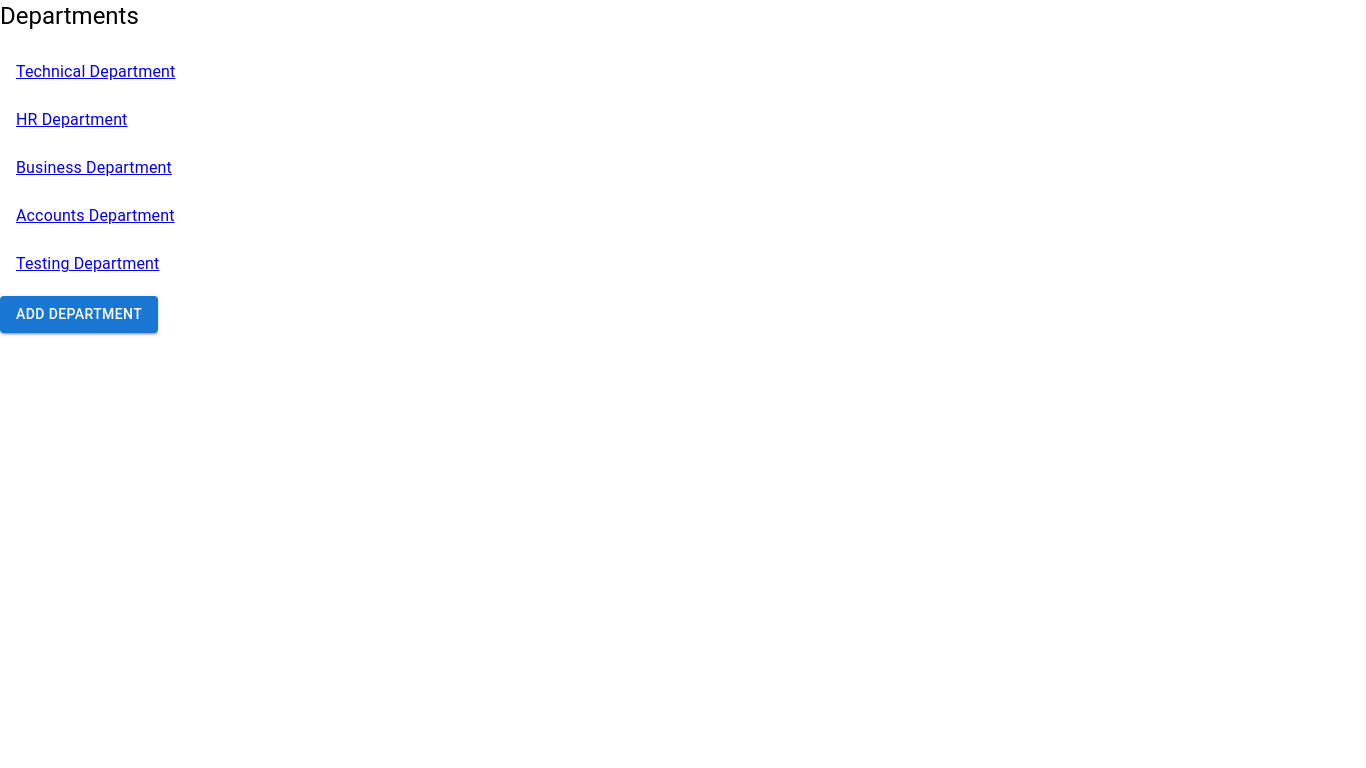
Test case: Department Management - Task › Adding an employee with missing branch
Click the link "Technical Department".
click(96, 72)  # box 16,62 -> 175,81
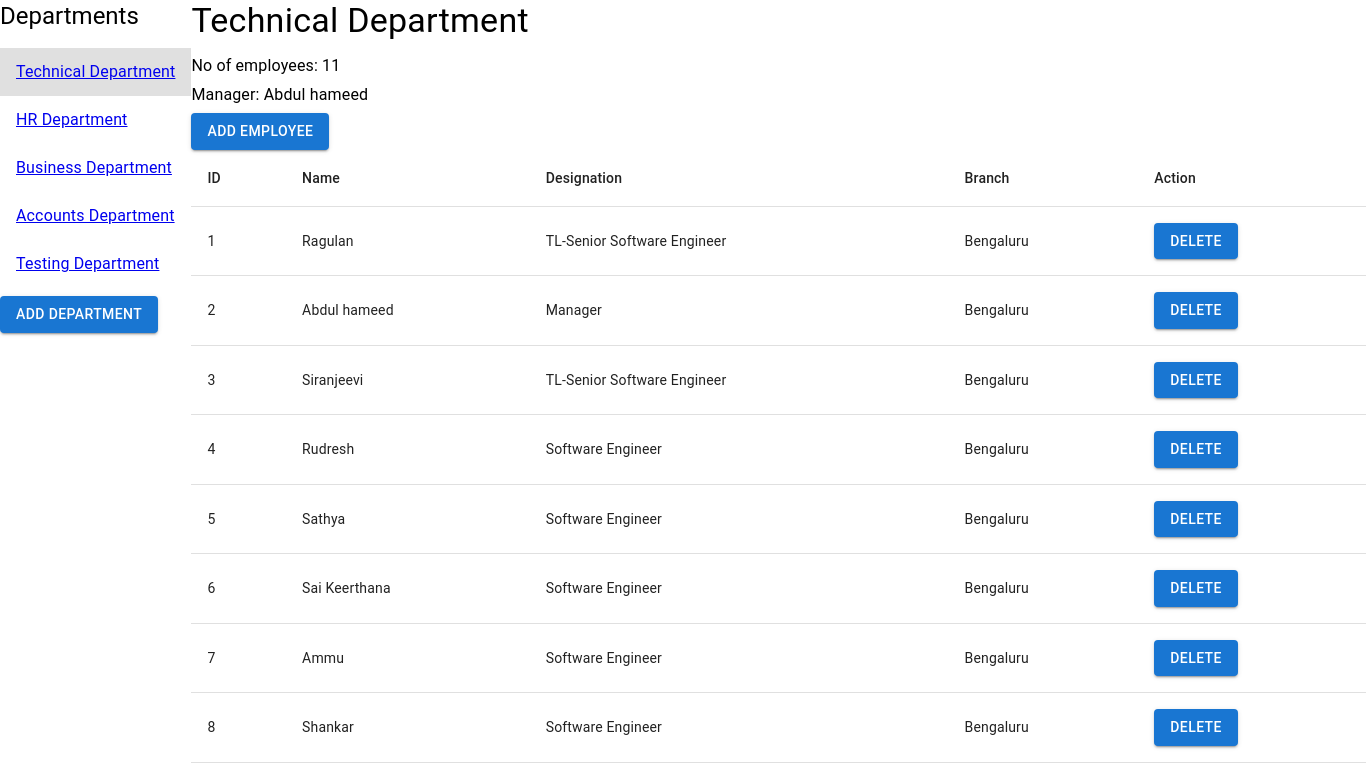
Click the button "Add Employee".
click(260, 132)  # box 191,113 -> 329,150
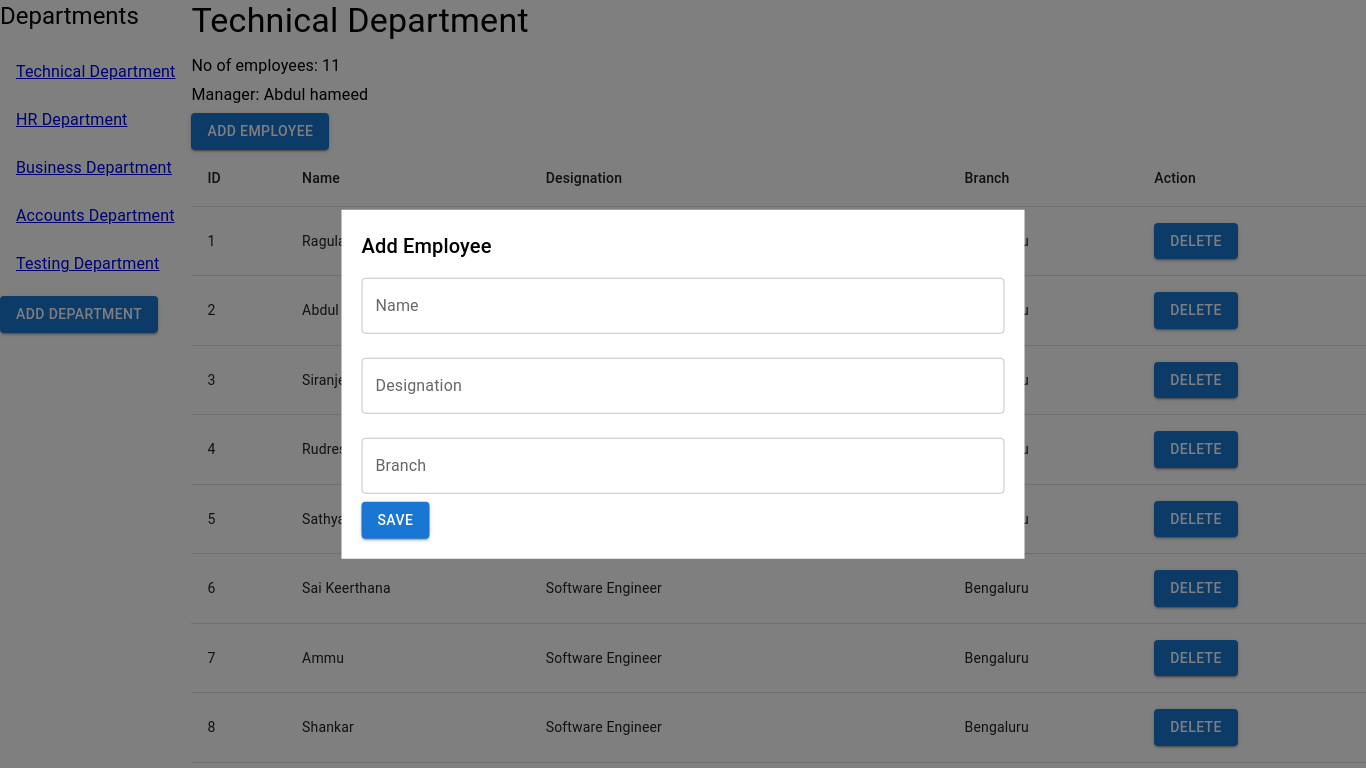
Now the field named "name" is shown
Type "Sathya" into the field named "name".
click(684, 306); type("Sathya")  # box 362,278 -> 1005,334
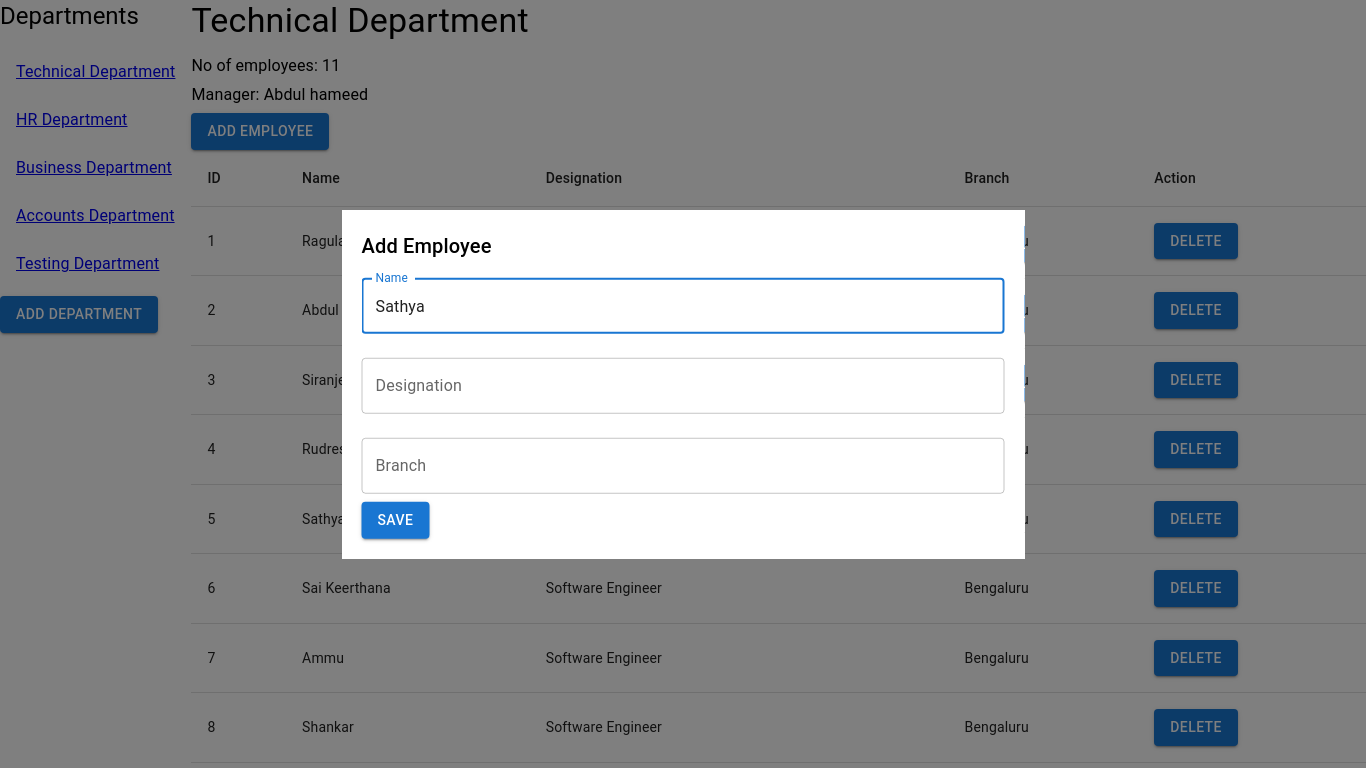
Now the field named "designation" is shown
Type "SDE" into the field named "designation".
click(684, 386); type("SDE")  # box 362,358 -> 1005,414
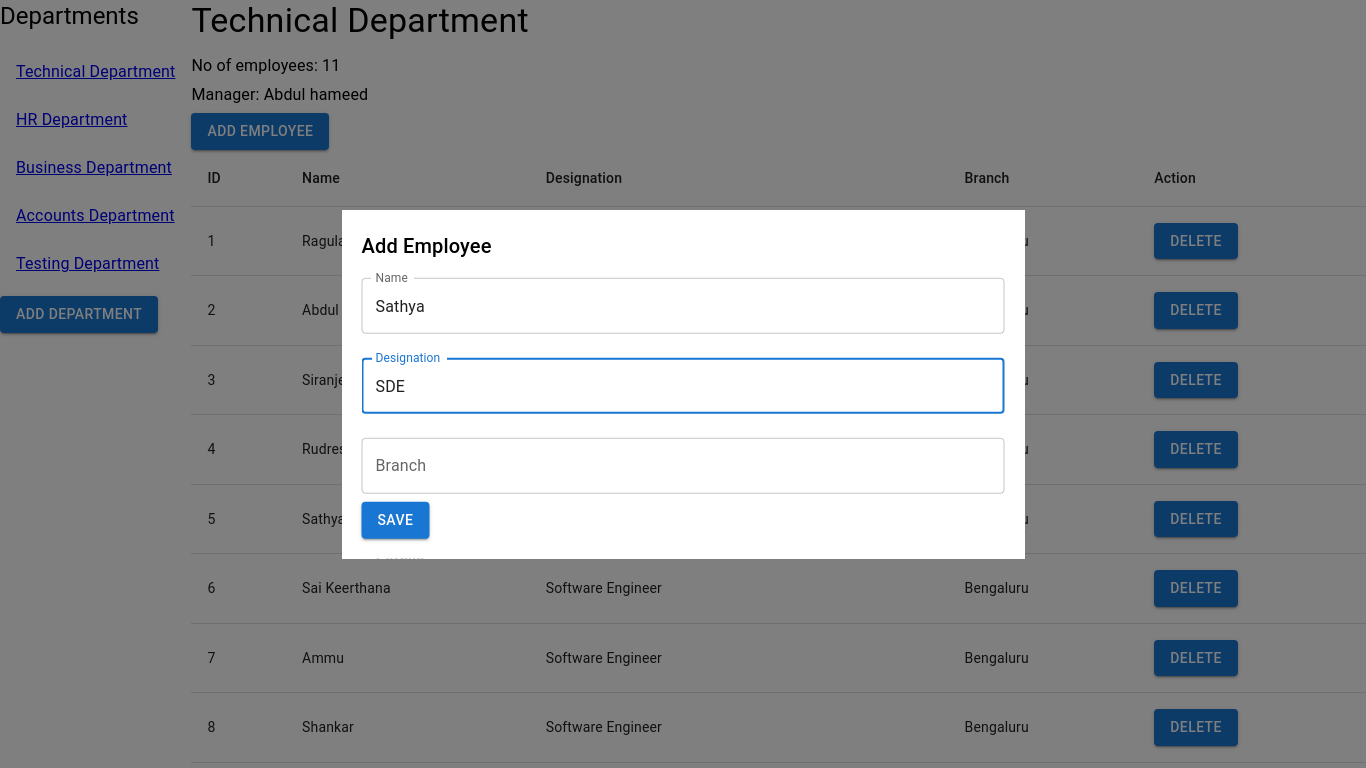
Click the button "Save".
click(396, 521)  # box 362,502 -> 430,539
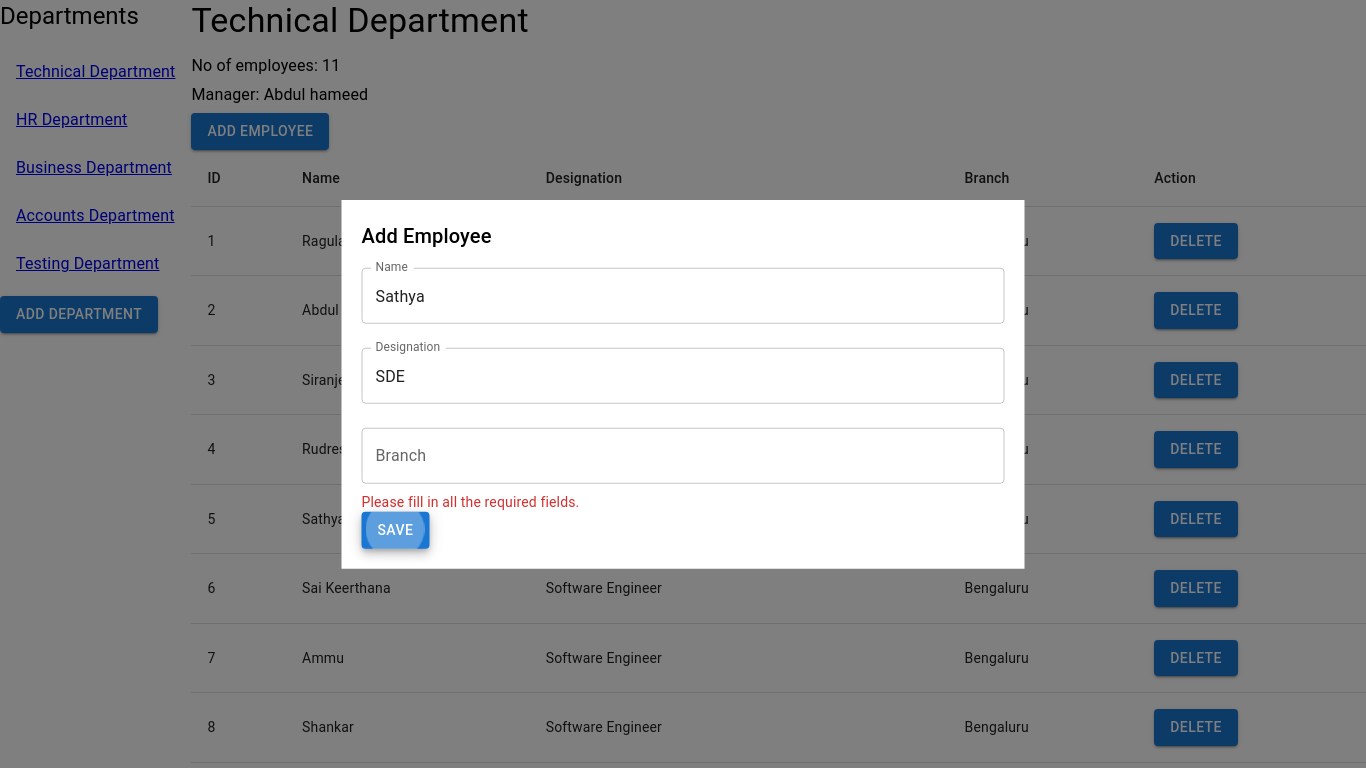
Now the text "Please fill in all the required fields." is shown, box 362,494 -> 579,510
